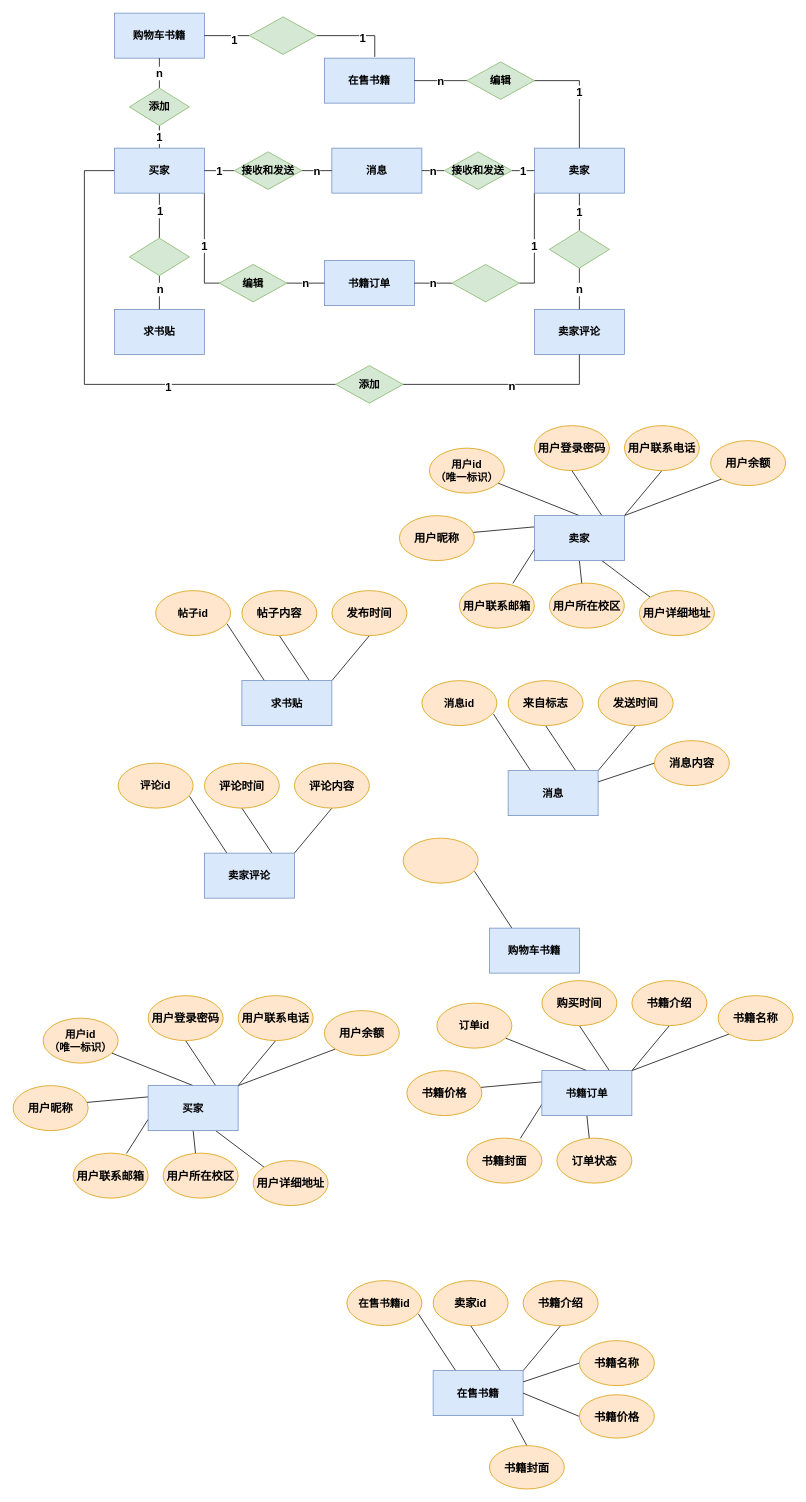
Image size: 806x1502. Some labels were removed from this diagram. Here are the shapes that lost their labels. From the top down, the centre of each, then its label:
pixel 283 35: 对应
pixel 159 256: 发布
pixel 579 249: 属于
pixel 485 283: 查看
pixel 440 860: 购物车书籍id
